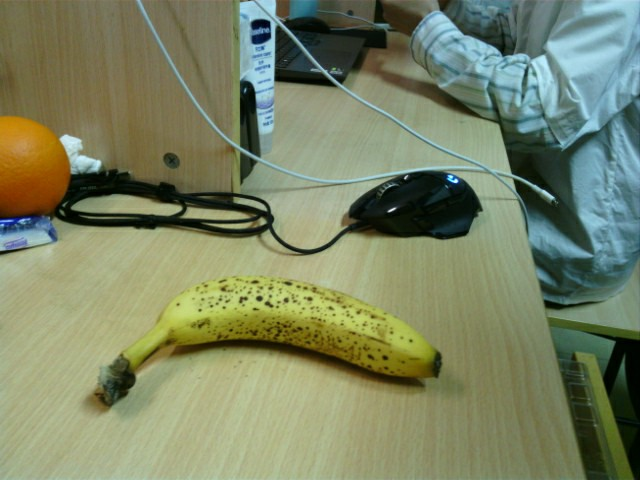normal_banana: (98, 277, 442, 411)
normal_orange: (2, 115, 71, 214)
